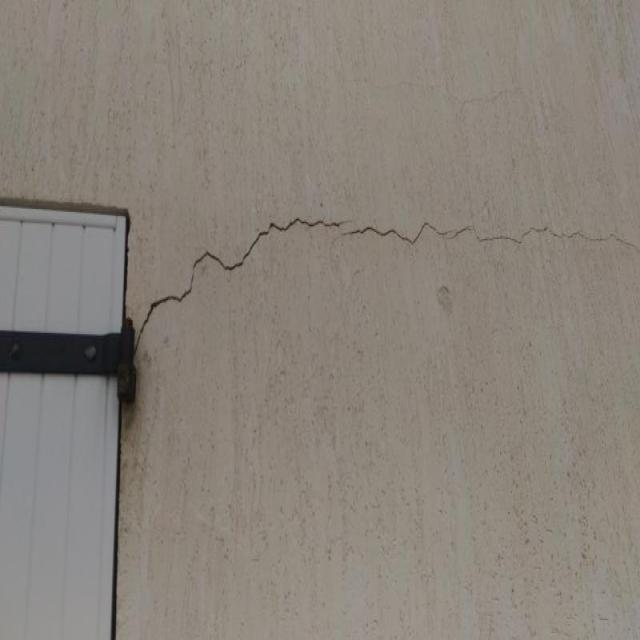crack: (132, 215, 352, 364), (458, 219, 639, 251), (342, 216, 457, 248)
